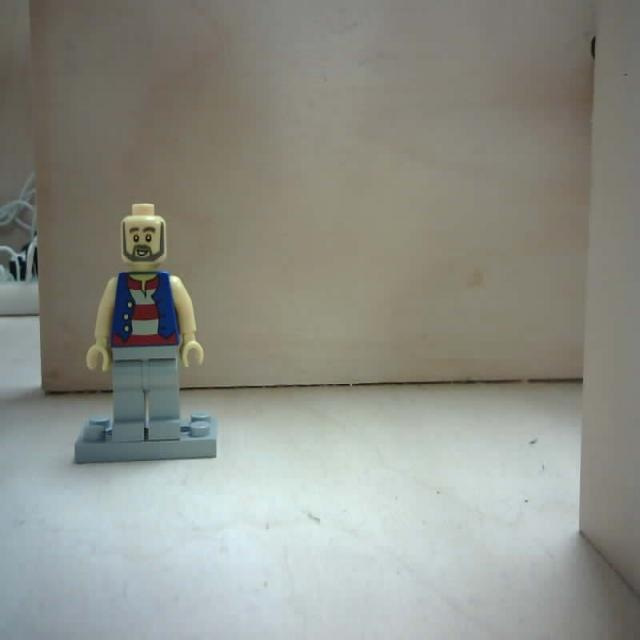Lego-People: (75, 202, 217, 473)
